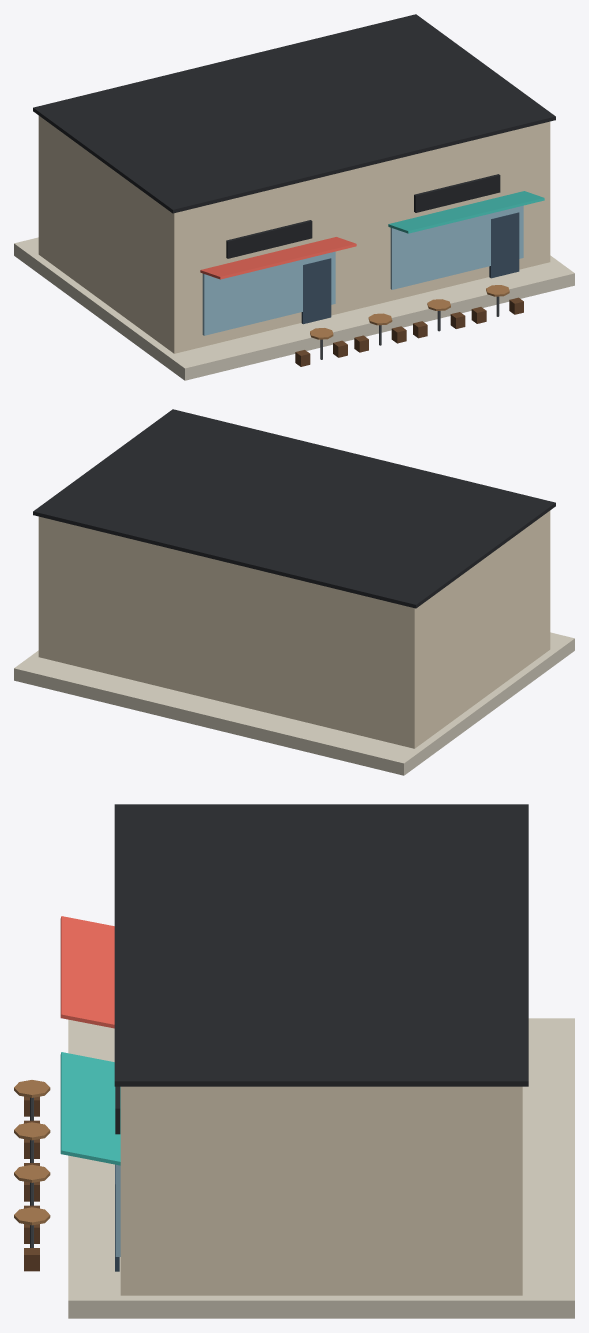
Rendered from building.restaurant-row.glb.
3 views of the same model, one above another, from view 1: azimuth 30°, elevation 25°; view 2: azimuth 150°, elevation 25°; view 3: azimuth 270°, elevation 25° (orthographic). The views are drawn at different scales.
Visible parts, largest first — view 1: building.restaurant-row; view 2: building.restaurant-row; view 3: building.restaurant-row.
Boxes of the visible parts, bbox=[...] form: building.restaurant-row: bbox=[14, 14, 574, 380]; building.restaurant-row: bbox=[14, 409, 574, 775]; building.restaurant-row: bbox=[14, 804, 574, 1318].
Size of the model in its own units: 16.6 by 6.45 by 13.95.
